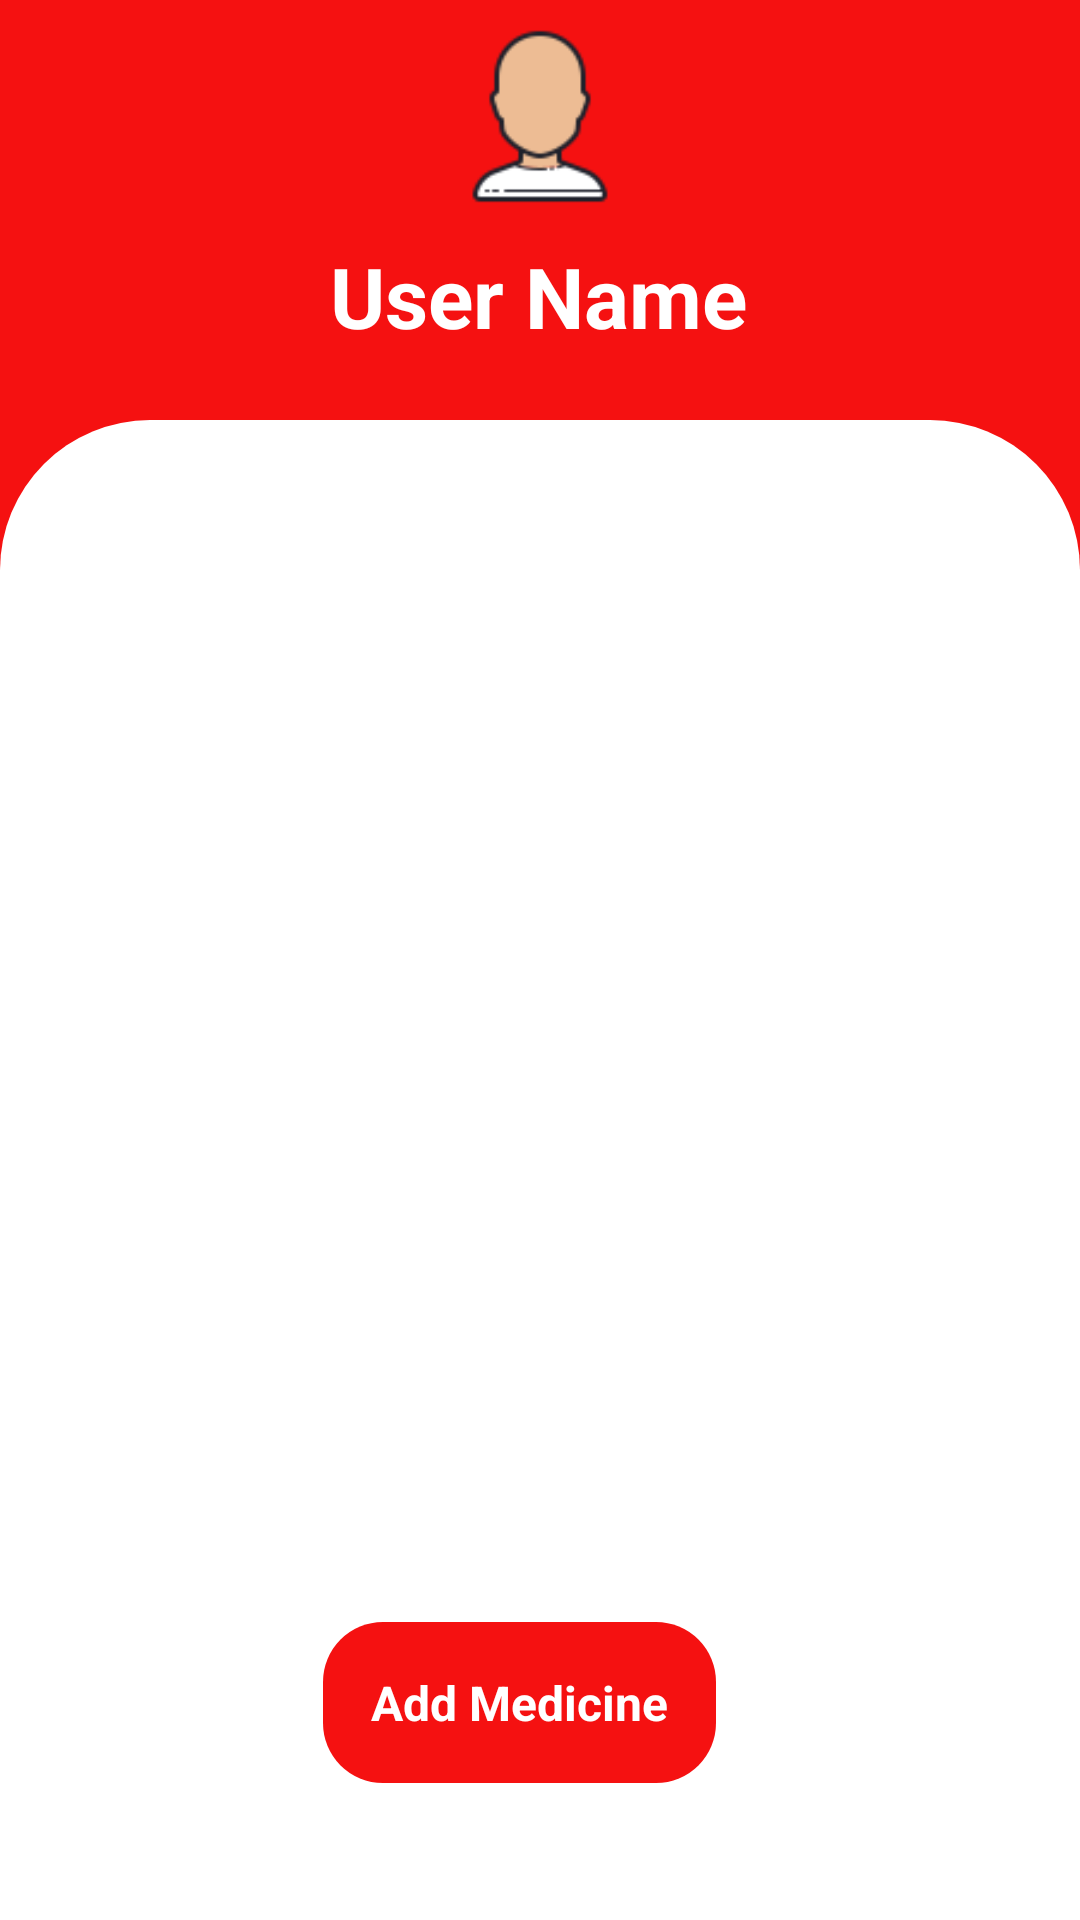

Locate icon controls on the screen. Image size 1080*1920, boxes as (x1, y1, x2, y2).
profile: (472, 30, 608, 203)
